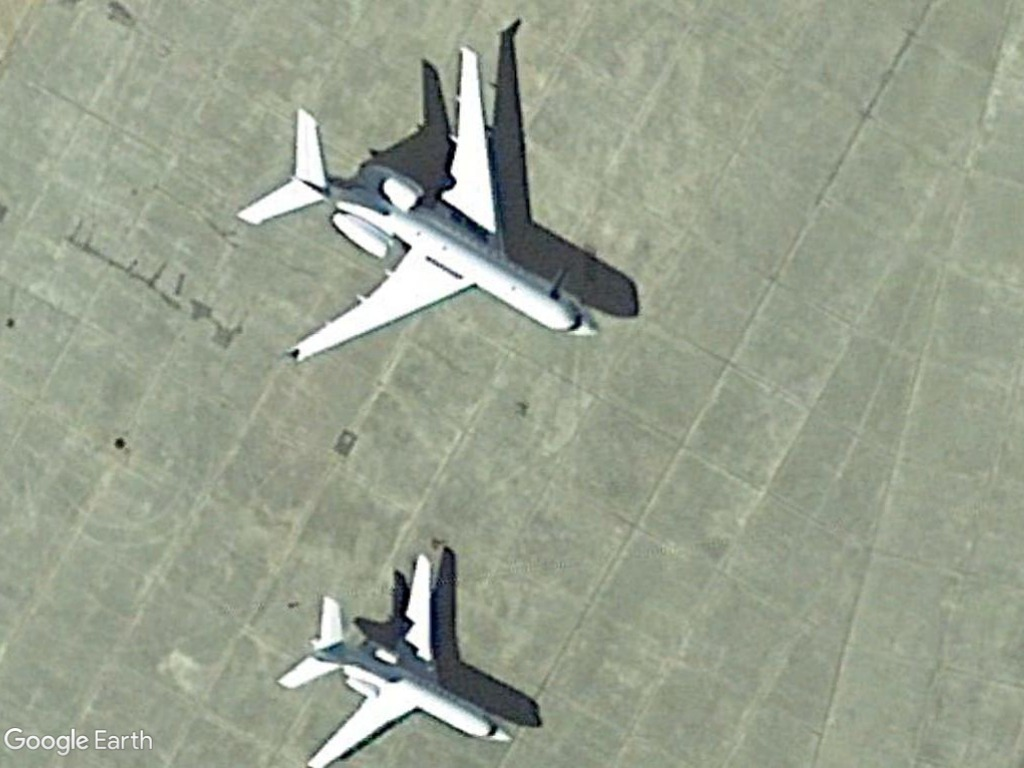chartered: (236, 43, 596, 381), (275, 543, 519, 768)
